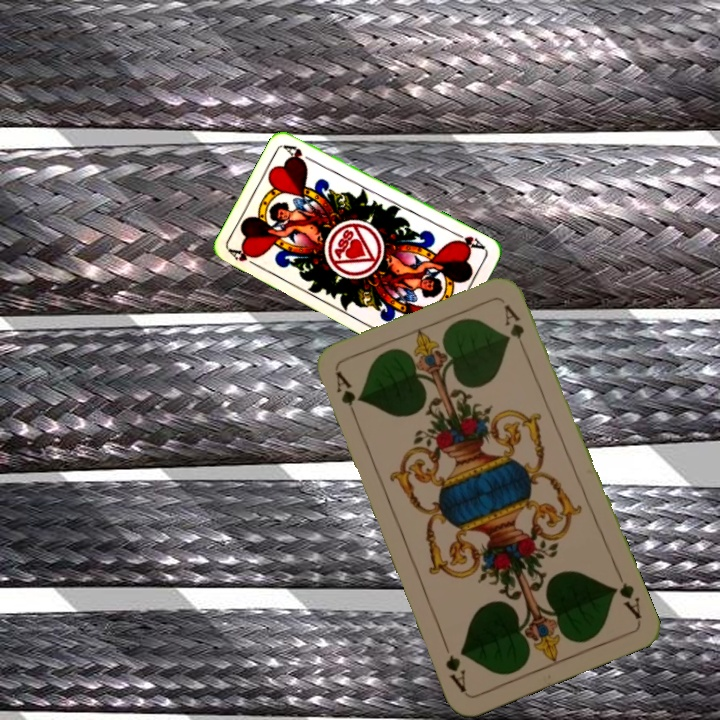GA: (608, 566, 644, 622), (331, 367, 361, 424)
HA: (225, 244, 264, 271), (450, 228, 488, 253)
